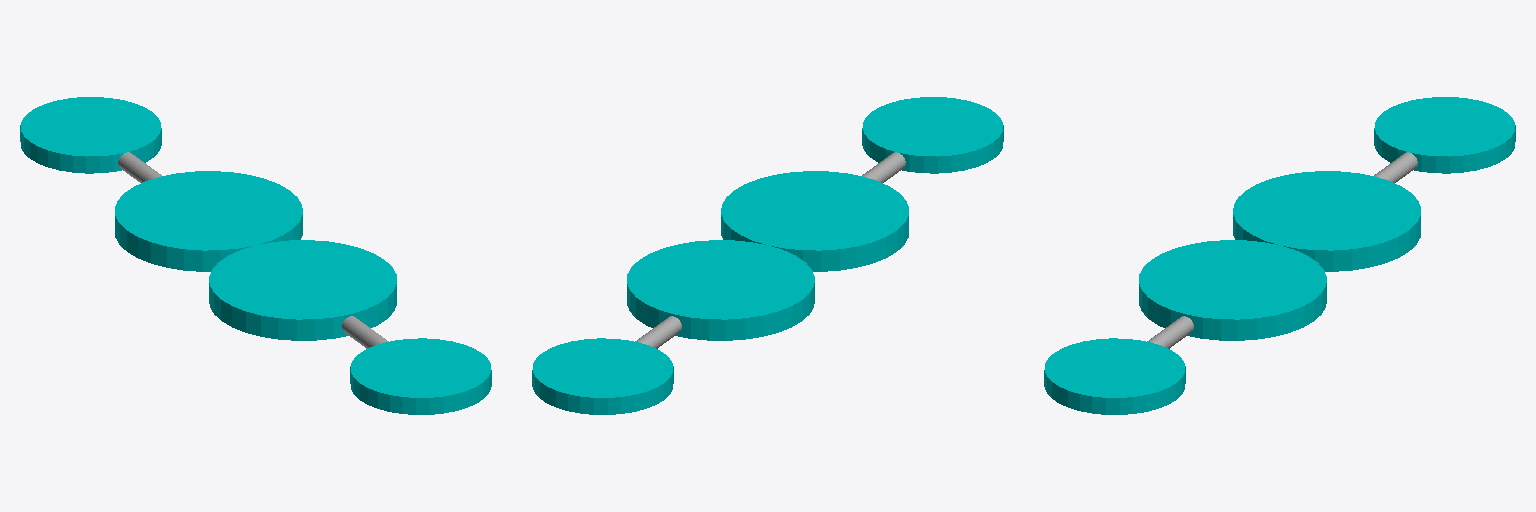
URDF robot description (spacejockey):
<?xml version="1.0"?>
<robot name="spacejockey">
  <link name="base_link">
    <visual>
      <geometry>
        <cylinder length="0.05" radius="0.2"/>
      </geometry>
      <material name="teal">
        <color rgba="0 .8 .8 1"/>
      </material>
    </visual>
  </link>

  <link name="center_aft">
    <visual>
      <geometry>
        <cylinder length="0.05" radius="0.2"/>
      </geometry>
      <origin rpy="0 0 0" xyz="0 -0.2 0"/>
      <material name="teal"/>
    </visual>
  </link>

  <joint name="center_swivel" type="revolute">
    <axis xyz="0 0 -1"/>
    <limit effort="1000.0" lower="-.8" upper=".8" velocity="0.5"/>
    <origin rpy="0 0 0" xyz="0 -0.2 0"/>
    <parent link="base_link"/>
    <child link="center_aft"/>
  </joint>

  <link name="fore_base_pole">
    <visual>
      <geometry>
        <cylinder length="0.15" radius=".02"/>
      </geometry>
      <origin rpy="-1.57075 0 0 " xyz="0 0.075 0"/>
      <material name="Gray">
        <color rgba=".7 .7 .7 1"/>
      </material>
    </visual>
  </link>

  <joint name="fore_base_pitch" type="revolute">
    <axis xyz="1 0 0"/>
    <limit effort="1000.0" lower="-.6" upper=".6" velocity="0.5"/>
    <origin rpy="0 0 0" xyz="0 .2 0"/>
    <parent link="base_link"/>
    <child link="fore_base_pole"/>
  </joint>
  
  <link name="fore_base_prism">
    <visual>
      <geometry>
        <cylinder length="0.15" radius=".018"/>
      </geometry>
      <origin rpy="0 1.57075 0 " xyz=".075 0 0"/>
      <material name="cyan">
	<color rgba=".8 0 .8 1"/>
      </material>
    </visual>
  </link>

  <joint name="fore_extend" type="prismatic">
    <parent link="fore_base_pole"/>
    <child link="fore_base_prism"/>
    <limit effort="1000.0" lower="0" upper="0.15" velocity="0.5"/>
    <origin rpy="0 0 1.57075" xyz="0 0.0 0"/>
  </joint>

  <link name="front_seg">
    <visual>
      <geometry>
        <cylinder length="0.04" radius="0.15"/>
      </geometry>
      <origin rpy="0 0 0" xyz="0.15 0 0"/>
      <material name="teal"/>
    </visual>
  </link>

  <joint name="front_pitch" type="revolute">
    <axis xyz="0 -1 0"/>
    <limit effort="1000.0" lower="-1.2" upper="1.2" velocity="0.5"/>
    <origin rpy="0 0 0" xyz="0.15 0 0"/>
    <parent link="fore_base_prism"/>
    <child link="front_seg"/>
  </joint>

  <link name="aft_base_pole">
    <visual>
      <geometry>
        <cylinder length="0.15" radius=".02"/>
      </geometry>
      <origin rpy="-1.57075 0 0 " xyz="0 -0.075 0"/>
      <material name="Gray">
        <color rgba=".7 .7 .7 1"/>
      </material>
    </visual>
  </link>

  <joint name="aft_base_pitch" type="revolute">
    <axis xyz="-1 0 0"/>
    <limit effort="1000.0" lower="-.6" upper=".6" velocity="0.5"/>
    <origin rpy="0 0 0" xyz="0 -.4 0"/>
    <parent link="center_aft"/>
    <child link="aft_base_pole"/>
  </joint>

  <link name="aft_base_prism">
    <visual>
      <geometry>
        <cylinder length="0.15" radius=".018"/>
      </geometry>
      <origin rpy="0 -1.57075 0 " xyz="0.075 0 0"/>
      <material name="cyan">
	<color rgba=".8 0 .8 1"/>
      </material>
    </visual>
  </link>

  <joint name="aft_extend" type="prismatic">
    <parent link="aft_base_pole"/>
    <child link="aft_base_prism"/>
    <limit effort="1000.0" lower="0" upper="0.15" velocity="0.5"/>
    <origin rpy="0 0 -1.57075" xyz="0 0.0 0"/>
  </joint>

  <link name="rear_seg">
    <visual>
      <geometry>
        <cylinder length="0.04" radius="0.15"/>
      </geometry>
      <origin rpy="0 0 0" xyz="0.15 0 0"/>
      <material name="teal"/>
    </visual>
  </link>

  <joint name="rear_pitch" type="revolute">
    <axis xyz="0 -1 0"/>
    <limit effort="1000.0" lower="-1.2" upper="1.2" velocity="0.5"/>
    <origin rpy="0 0 0" xyz="0.15 0 0"/>
    <parent link="aft_base_prism"/>
    <child link="rear_seg"/>
  </joint>

</robot>

--- Facts derived from the render (not from the file) ---
The picture shows the robot from 3 angles, left to right: view 1: azimuth 30°, elevation 25°; view 2: azimuth 150°, elevation 25°; view 3: azimuth 330°, elevation 25°; orthographic projection.
Model spacejockey with 8 links and 7 joints (5 revolute, 2 prismatic), rooted at base_link, posed every joint at zero.
Links seen in each view (by area): view 1: center_aft, base_link, rear_seg, front_seg, aft_base_pole, fore_base_pole; view 2: base_link, center_aft, front_seg, rear_seg, fore_base_pole, aft_base_pole; view 3: center_aft, base_link, rear_seg, front_seg, aft_base_pole, fore_base_pole.
Link boxes in pixels (bbox=[...]): center_aft: bbox=[209, 240, 396, 340]; base_link: bbox=[115, 171, 302, 271]; rear_seg: bbox=[350, 338, 491, 414]; front_seg: bbox=[20, 97, 161, 173]; aft_base_pole: bbox=[342, 316, 388, 348]; fore_base_pole: bbox=[118, 152, 161, 182]; base_link: bbox=[627, 240, 814, 340]; center_aft: bbox=[721, 171, 908, 271]; front_seg: bbox=[532, 338, 673, 414]; rear_seg: bbox=[862, 97, 1003, 173]; fore_base_pole: bbox=[635, 316, 681, 348]; aft_base_pole: bbox=[862, 152, 905, 182]; center_aft: bbox=[1139, 240, 1326, 340]; base_link: bbox=[1233, 171, 1420, 271]; rear_seg: bbox=[1044, 338, 1185, 414]; front_seg: bbox=[1374, 97, 1515, 173]; aft_base_pole: bbox=[1147, 316, 1193, 348]; fore_base_pole: bbox=[1374, 152, 1417, 182].
Bounding box of the posed robot: 0.4 × 1.7 × 0.05 m (x, y, z).
Geometry: primitives only (box / cylinder / sphere), no mesh files.